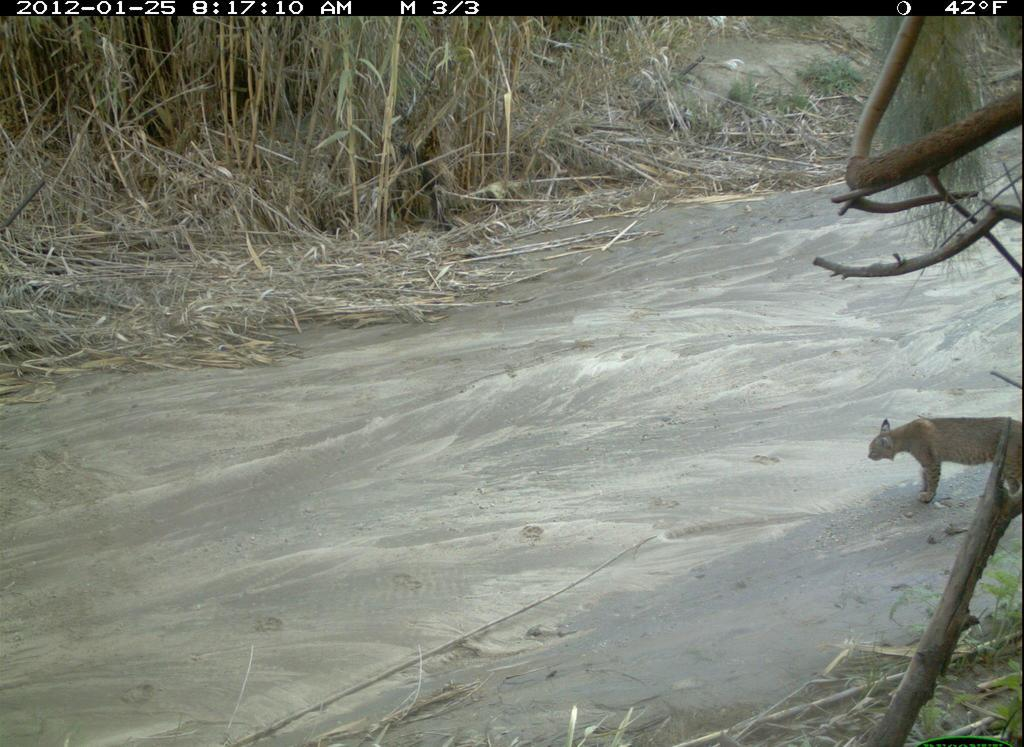bobcat: (854, 408, 1023, 515)
